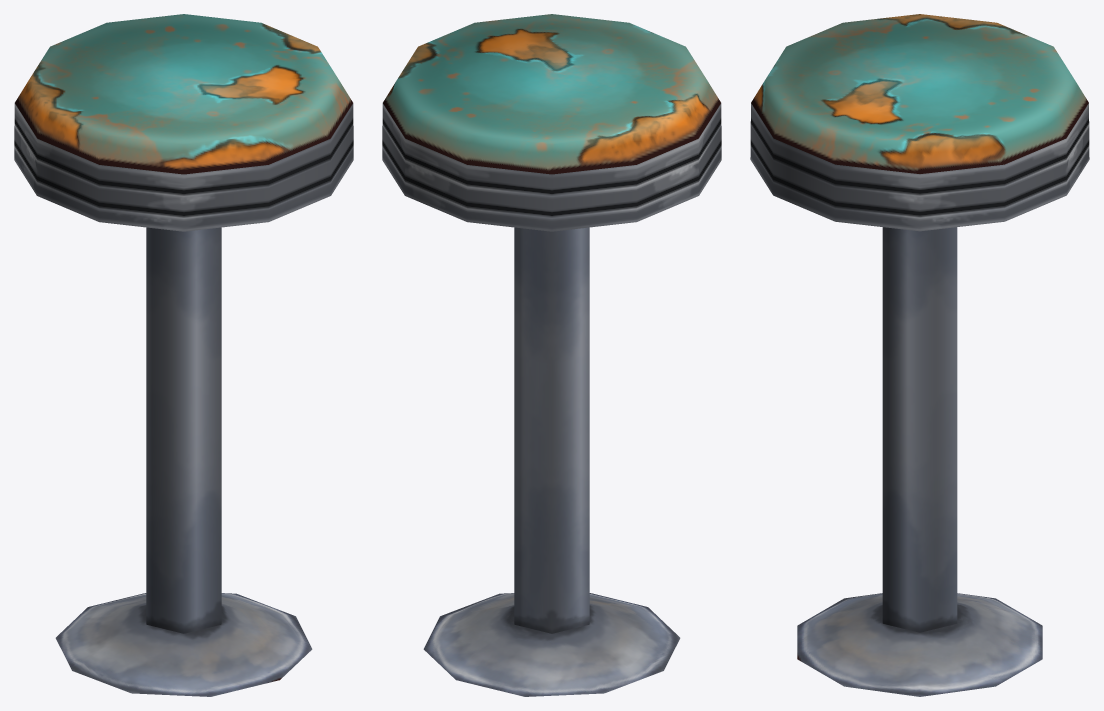
Rendered from chair07_green.fbx.
3 renders of one model, left to right at view 1: azimuth 30°, elevation 25°; view 2: azimuth 150°, elevation 25°; view 3: azimuth 270°, elevation 25°, orthographic.
Parts seen in each view (by area): view 1: chair07_green; view 2: chair07_green; view 3: chair07_green.
Boxes of the visible parts, <box> form: chair07_green: <box>14,14,353,696</box>; chair07_green: <box>382,14,721,696</box>; chair07_green: <box>750,14,1089,696</box>.
Size of the model in its own units: 38.19 by 70 by 38.19.
